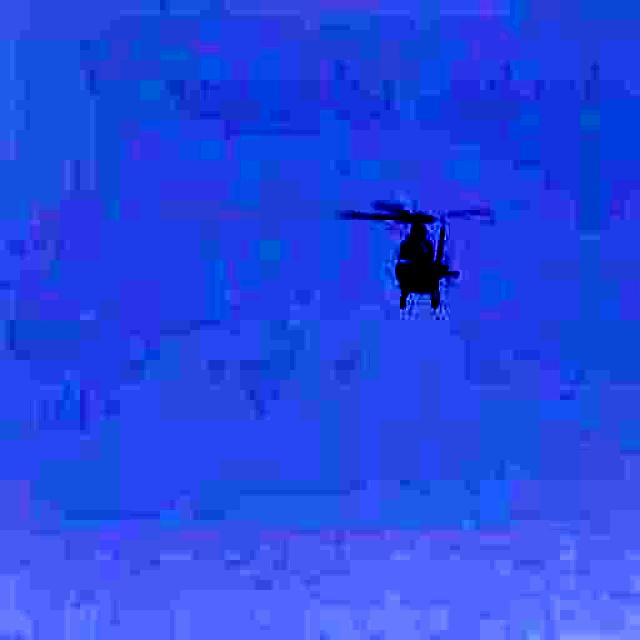drone: (332, 176, 502, 324)
